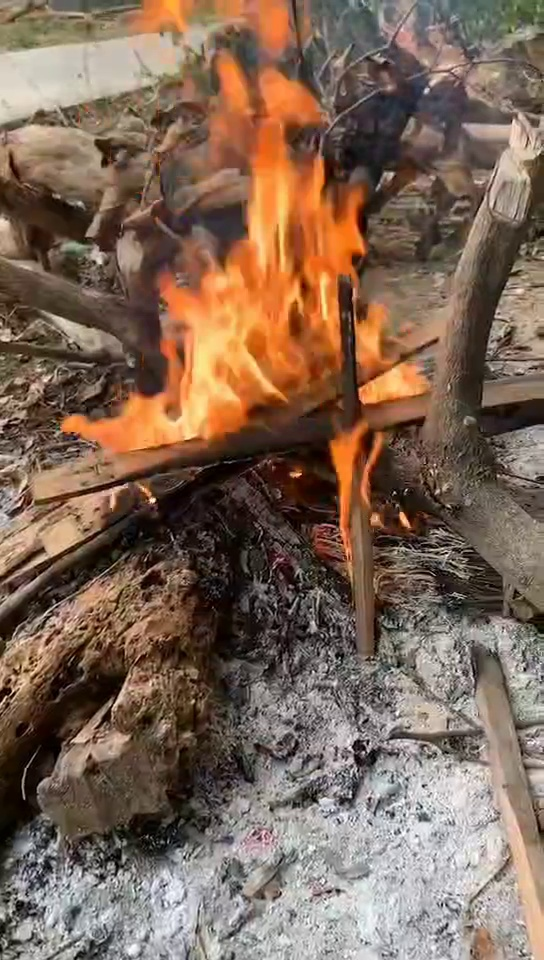fire: (160, 115, 422, 432)
